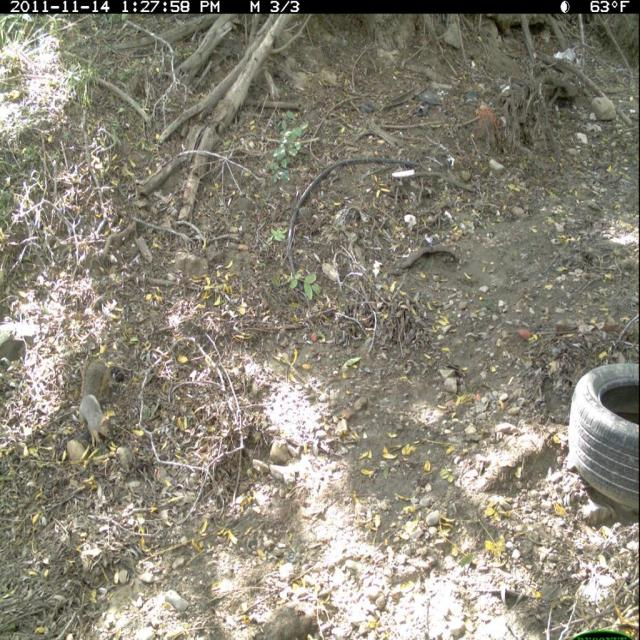squirrel: (70, 355, 120, 458)
